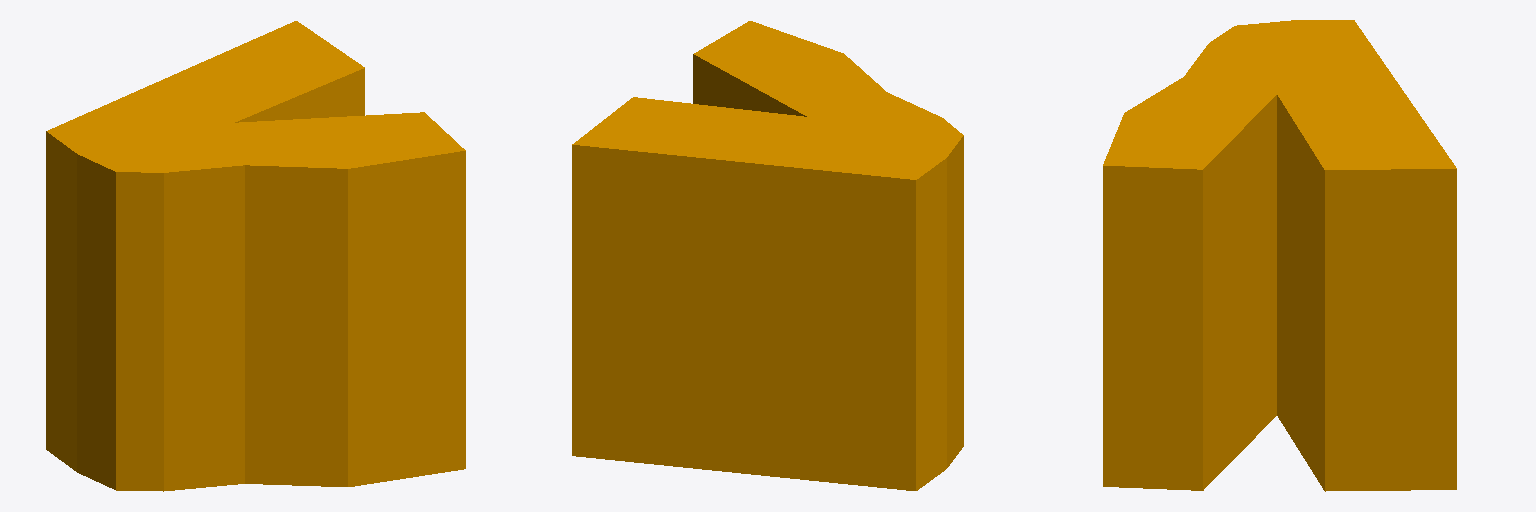
URDF robot description (object):
<?xml version="1.0"?>
<robot name="object">
  <link name="object">
    <visual>
      <origin xyz="0 0 0"/>
      <geometry>
        <mesh filename="meshes/polygon/poly_63_s.obj" scale=".03 .03 .03"/>
      </geometry>
    </visual>
    <collision>
  <origin xyz="0 0 0"/>
  <geometry>
    <mesh filename="meshes/polygon/poly_63_s_0decompose.obj" scale=".03 .03 .03"/>
<!--          <mesh filename="meshes/custom/obj0_ball.obj" scale=".05 .05 .05"/>-->
  </geometry>
</collision><collision>
  <origin xyz="0 0 0"/>
  <geometry>
    <mesh filename="meshes/polygon/poly_63_s_1decompose.obj" scale=".03 .03 .03"/>
<!--          <mesh filename="meshes/custom/obj0_ball.obj" scale=".05 .05 .05"/>-->
  </geometry>
</collision>

<!--    <collision>-->
<!--      <origin xyz="0 0 0"/>-->
<!--      <geometry>-->
<!--        <mesh filename="meshes/polygon/poly_63_s.obj" scale=".03 .03 .03"/>-->
<!--&lt;!&ndash;          <mesh filename="meshes/custom/obj0_ball.obj" scale=".05 .05 .05"/>&ndash;&gt;-->
<!--      </geometry>-->
<!--    </collision>-->
    <inertial>
      <density value="1000.0"/>
    </inertial>
  </link>
</robot>

--- What the picture shows (computed from the rendered views, not written in the file) ---
The picture shows the robot from 3 angles, left to right: view 1: azimuth 30°, elevation 25°; view 2: azimuth 150°, elevation 25°; view 3: azimuth 270°, elevation 25°; orthographic projection.
Model object with 1 links and 0 joints (none), rooted at object, posed every joint at zero.
Visible links, largest first — view 1: object; view 2: object; view 3: object.
Link boxes in pixels (bbox=[...]): object: bbox=[46, 21, 465, 491]; object: bbox=[572, 21, 963, 490]; object: bbox=[1103, 20, 1456, 491].
Size in the robot's own frame: 0.06 by 0.06 by 0.06 metres.
Meshes: 1 distinct files referenced, 1 mesh visuals loaded (1 OBJ).
